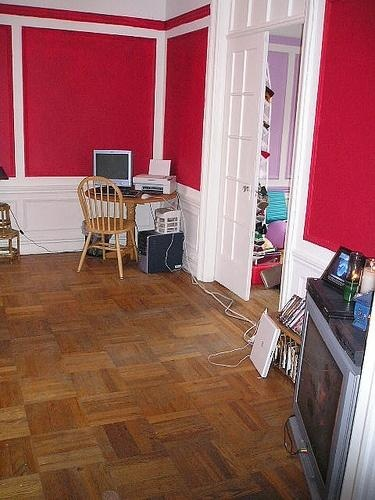chair: (78, 176, 139, 281)
tvmonitor: (292, 289, 363, 500), (93, 150, 134, 187)
